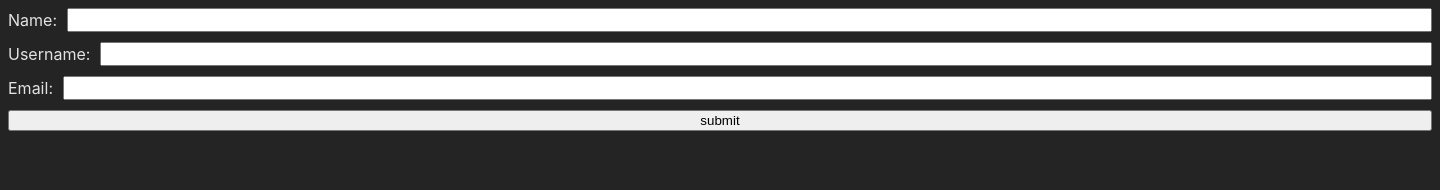
Test case: CreateUserForm Component › should show an error message on api error
Type "test 1" into the field with test id "Name-input" at [750, 20], box [67, 8, 1432, 32]
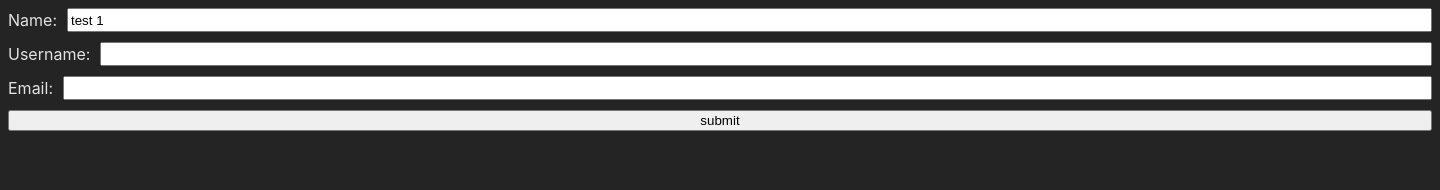
Type "test 2" into the field with test id "Email-input" at [748, 88], box [63, 76, 1432, 100]
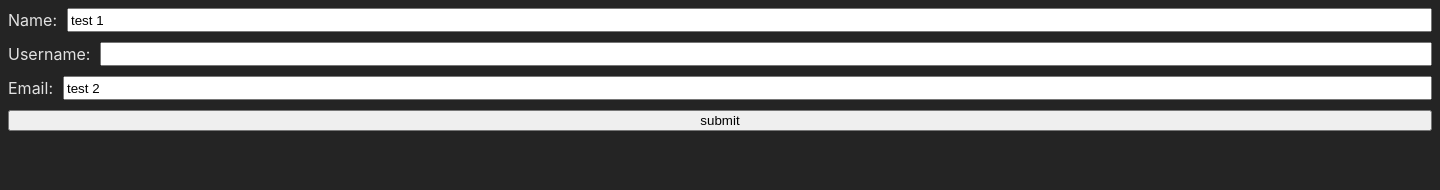
Type "test 3" into the field with test id "Username-input" at [766, 54], box [100, 42, 1432, 66]
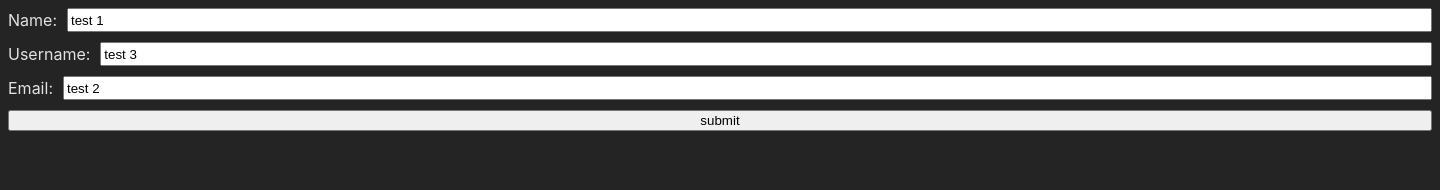
Click the button "submit" at [720, 120], box [8, 110, 1432, 131]
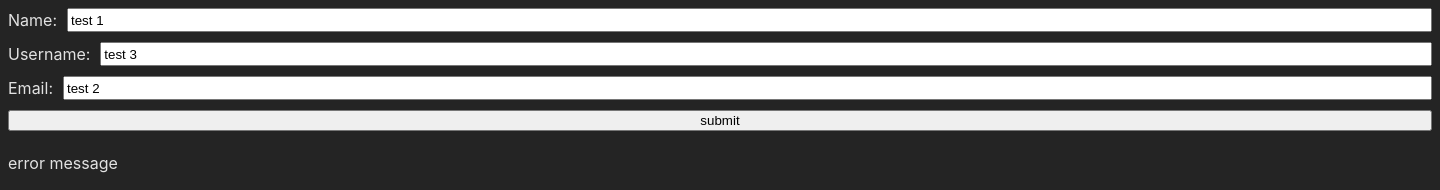
Check: the text "error message" is shown, box [8, 153, 118, 173]
